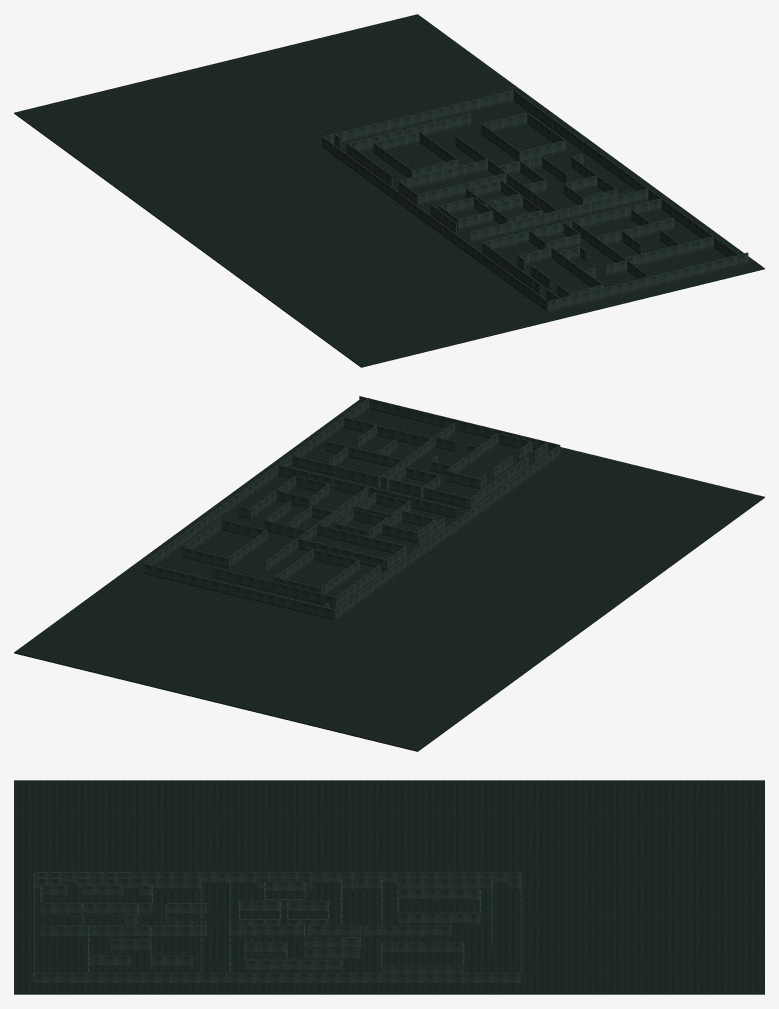
File: Mazev4.fbx
3 views of the same model, one above another, from view 1: azimuth 30°, elevation 25°; view 2: azimuth 150°, elevation 25°; view 3: azimuth 270°, elevation 25° (orthographic). The views are drawn at different scales.
Parts seen in each view (by area): view 1: SM_FloorTile.001; view 2: SM_FloorTile.001; view 3: SM_FloorTile.001.
Boxes of the visible parts, x1,y1,x2,y2 form: SM_FloorTile.001: (14,14,764,367); SM_FloorTile.001: (14,400,764,751); SM_FloorTile.001: (14,780,764,994).
Bounding box in the file's own units: 7246 × 204 × 10793.
